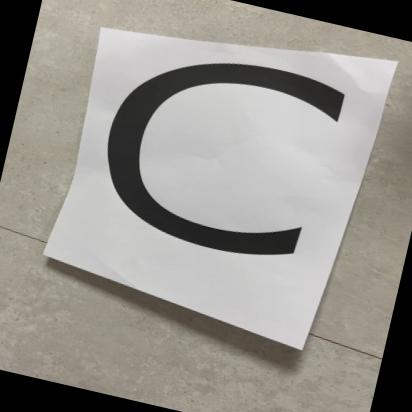seat: (58, 23, 389, 327)
